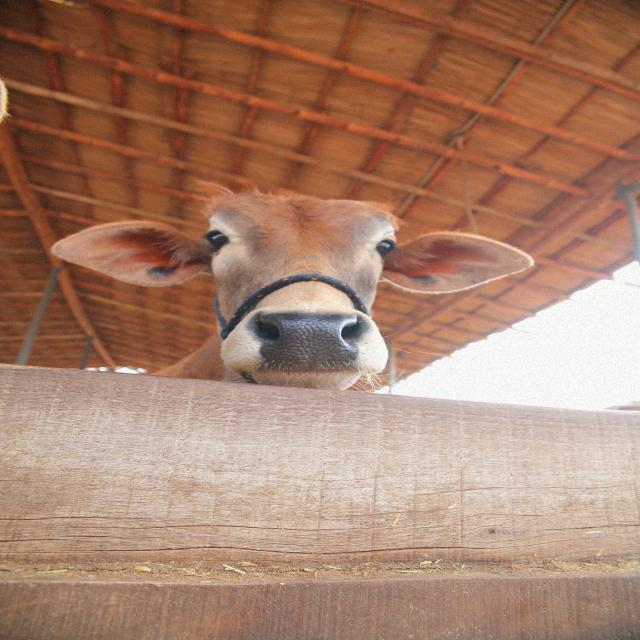muzzles: (249, 308, 375, 374)
